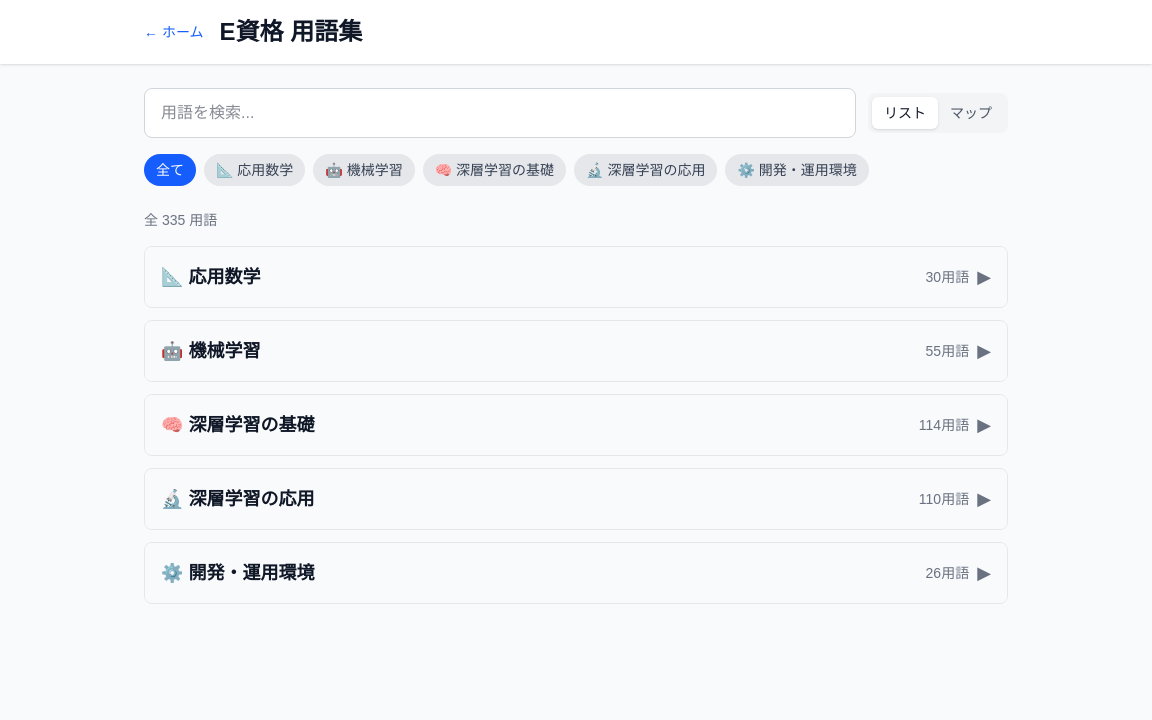
Test: GlossaryPage › 検索でフィルタされる
The width and height of the screenshot is (1152, 720).
Type "ベイズの定理" into the field with placeholder "用語を検索...".
click(500, 113); type("ベイズの定理")  # box [144, 88, 856, 138]
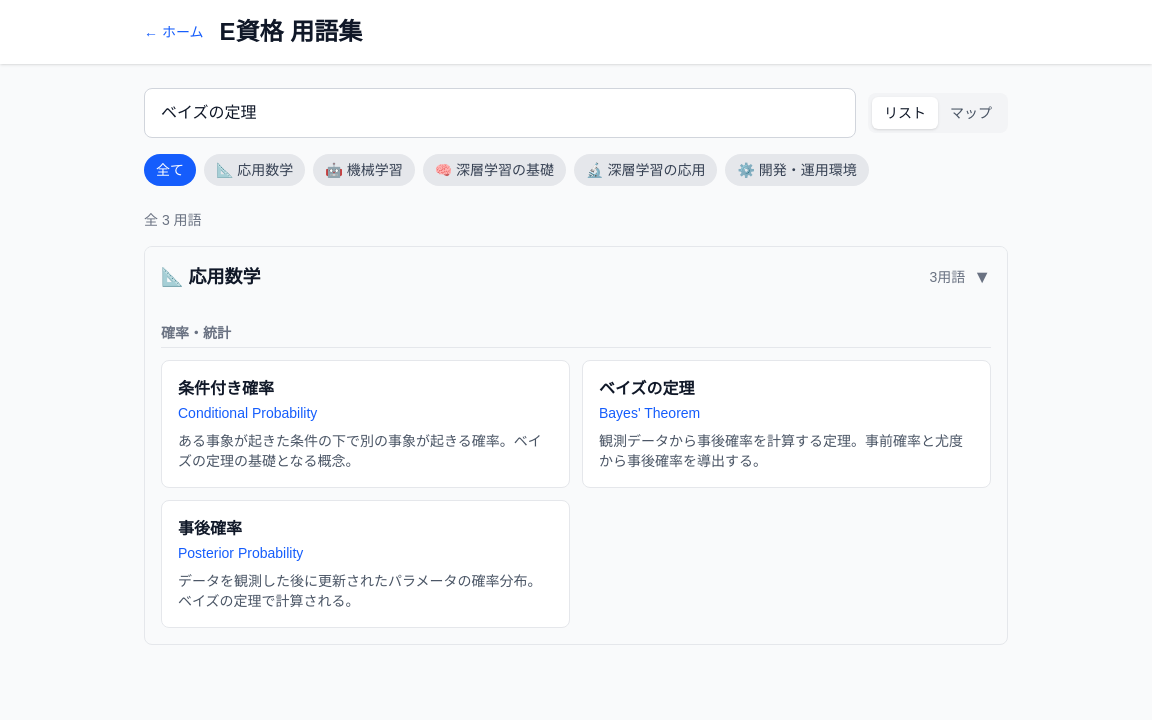
Check: the heading "ベイズの定理" is shown, box [599, 380, 694, 397]
